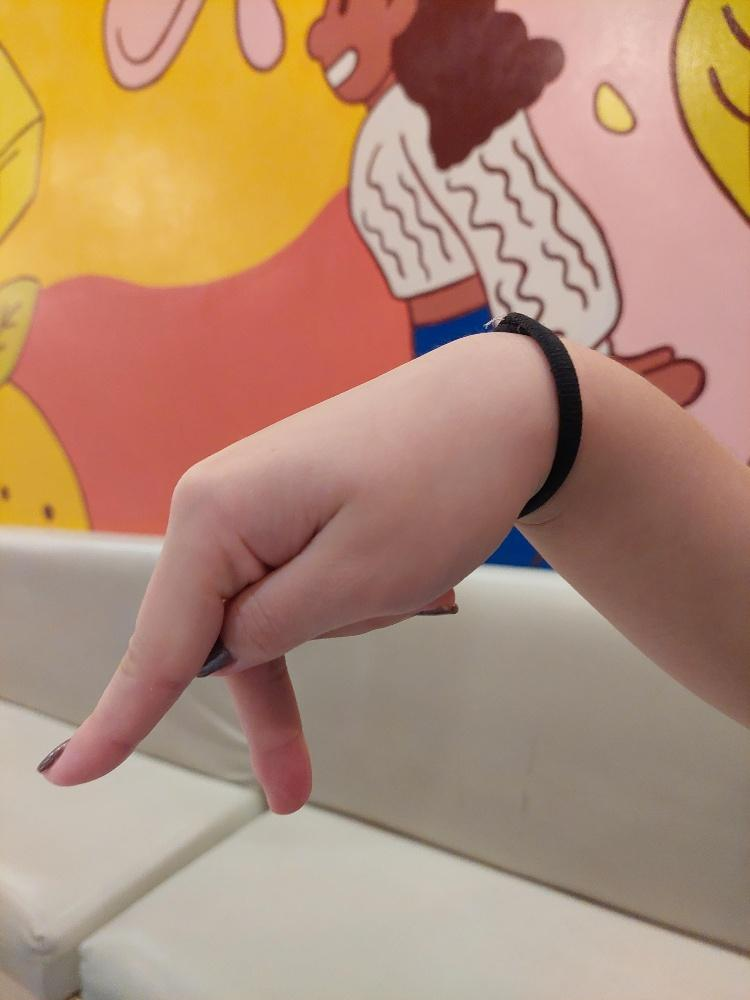p: (34, 324, 556, 818)
